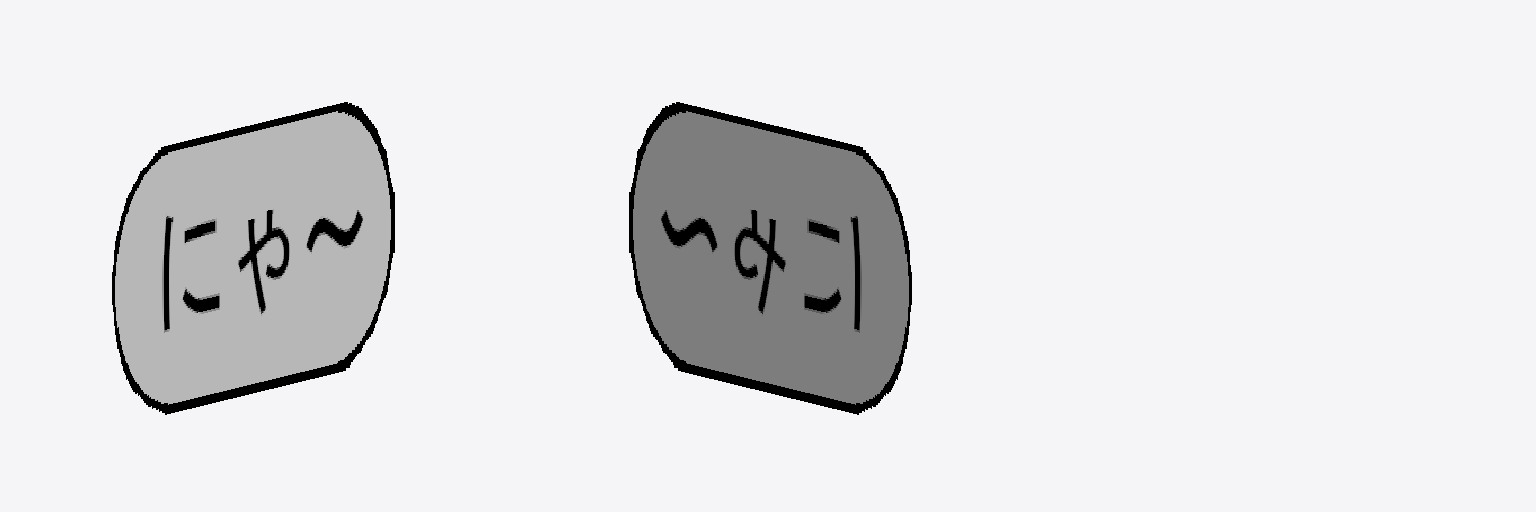
3 renders of one model, left to right at view 1: azimuth 30°, elevation 25°; view 2: azimuth 150°, elevation 25°; view 3: azimuth 270°, elevation 25°, orthographic.
Visible parts, largest first — view 1: Plane; view 2: Plane; view 3: none.
Part boxes in pixels (bbox=[...]): Plane: bbox=[112, 102, 394, 414]; Plane: bbox=[629, 102, 911, 414].
Bounding box in the file's own units: 2 × 2 × 0.
1 materials, 1 textured.